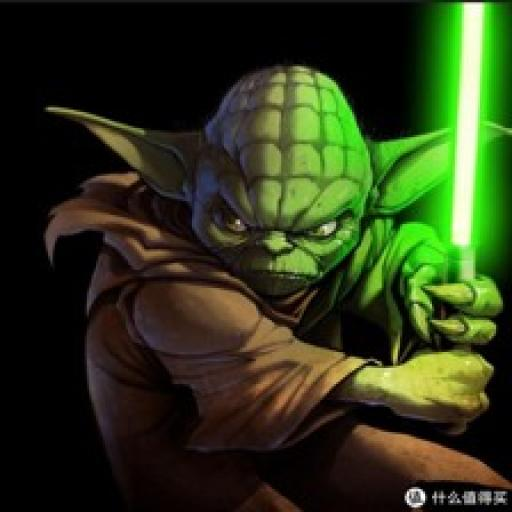lightsaber: (432, 1, 489, 441)
